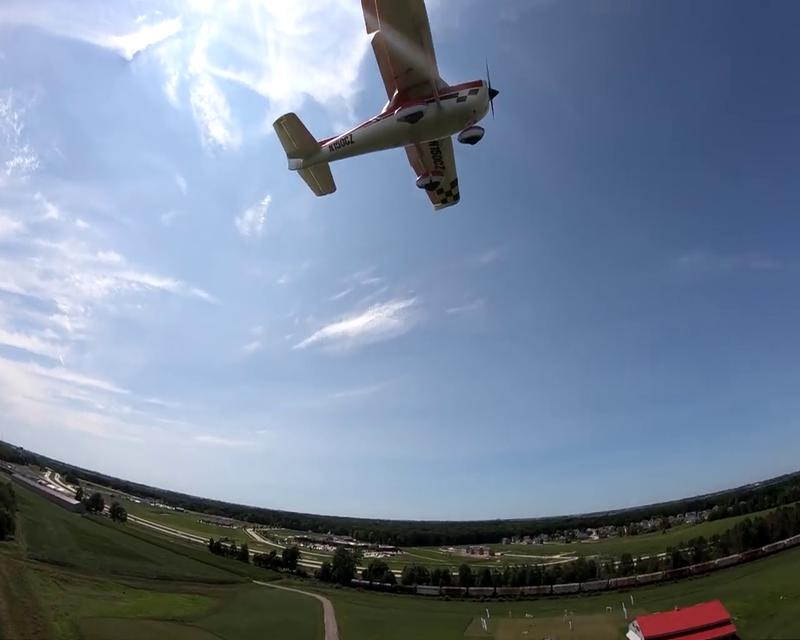UAV: (272, 0, 500, 212)
